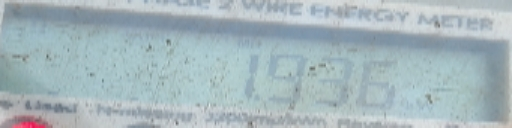1: (245, 47, 257, 101)
3: (316, 53, 354, 109)
6: (355, 58, 406, 110)
9: (266, 48, 306, 112)
d: (253, 91, 264, 104)
